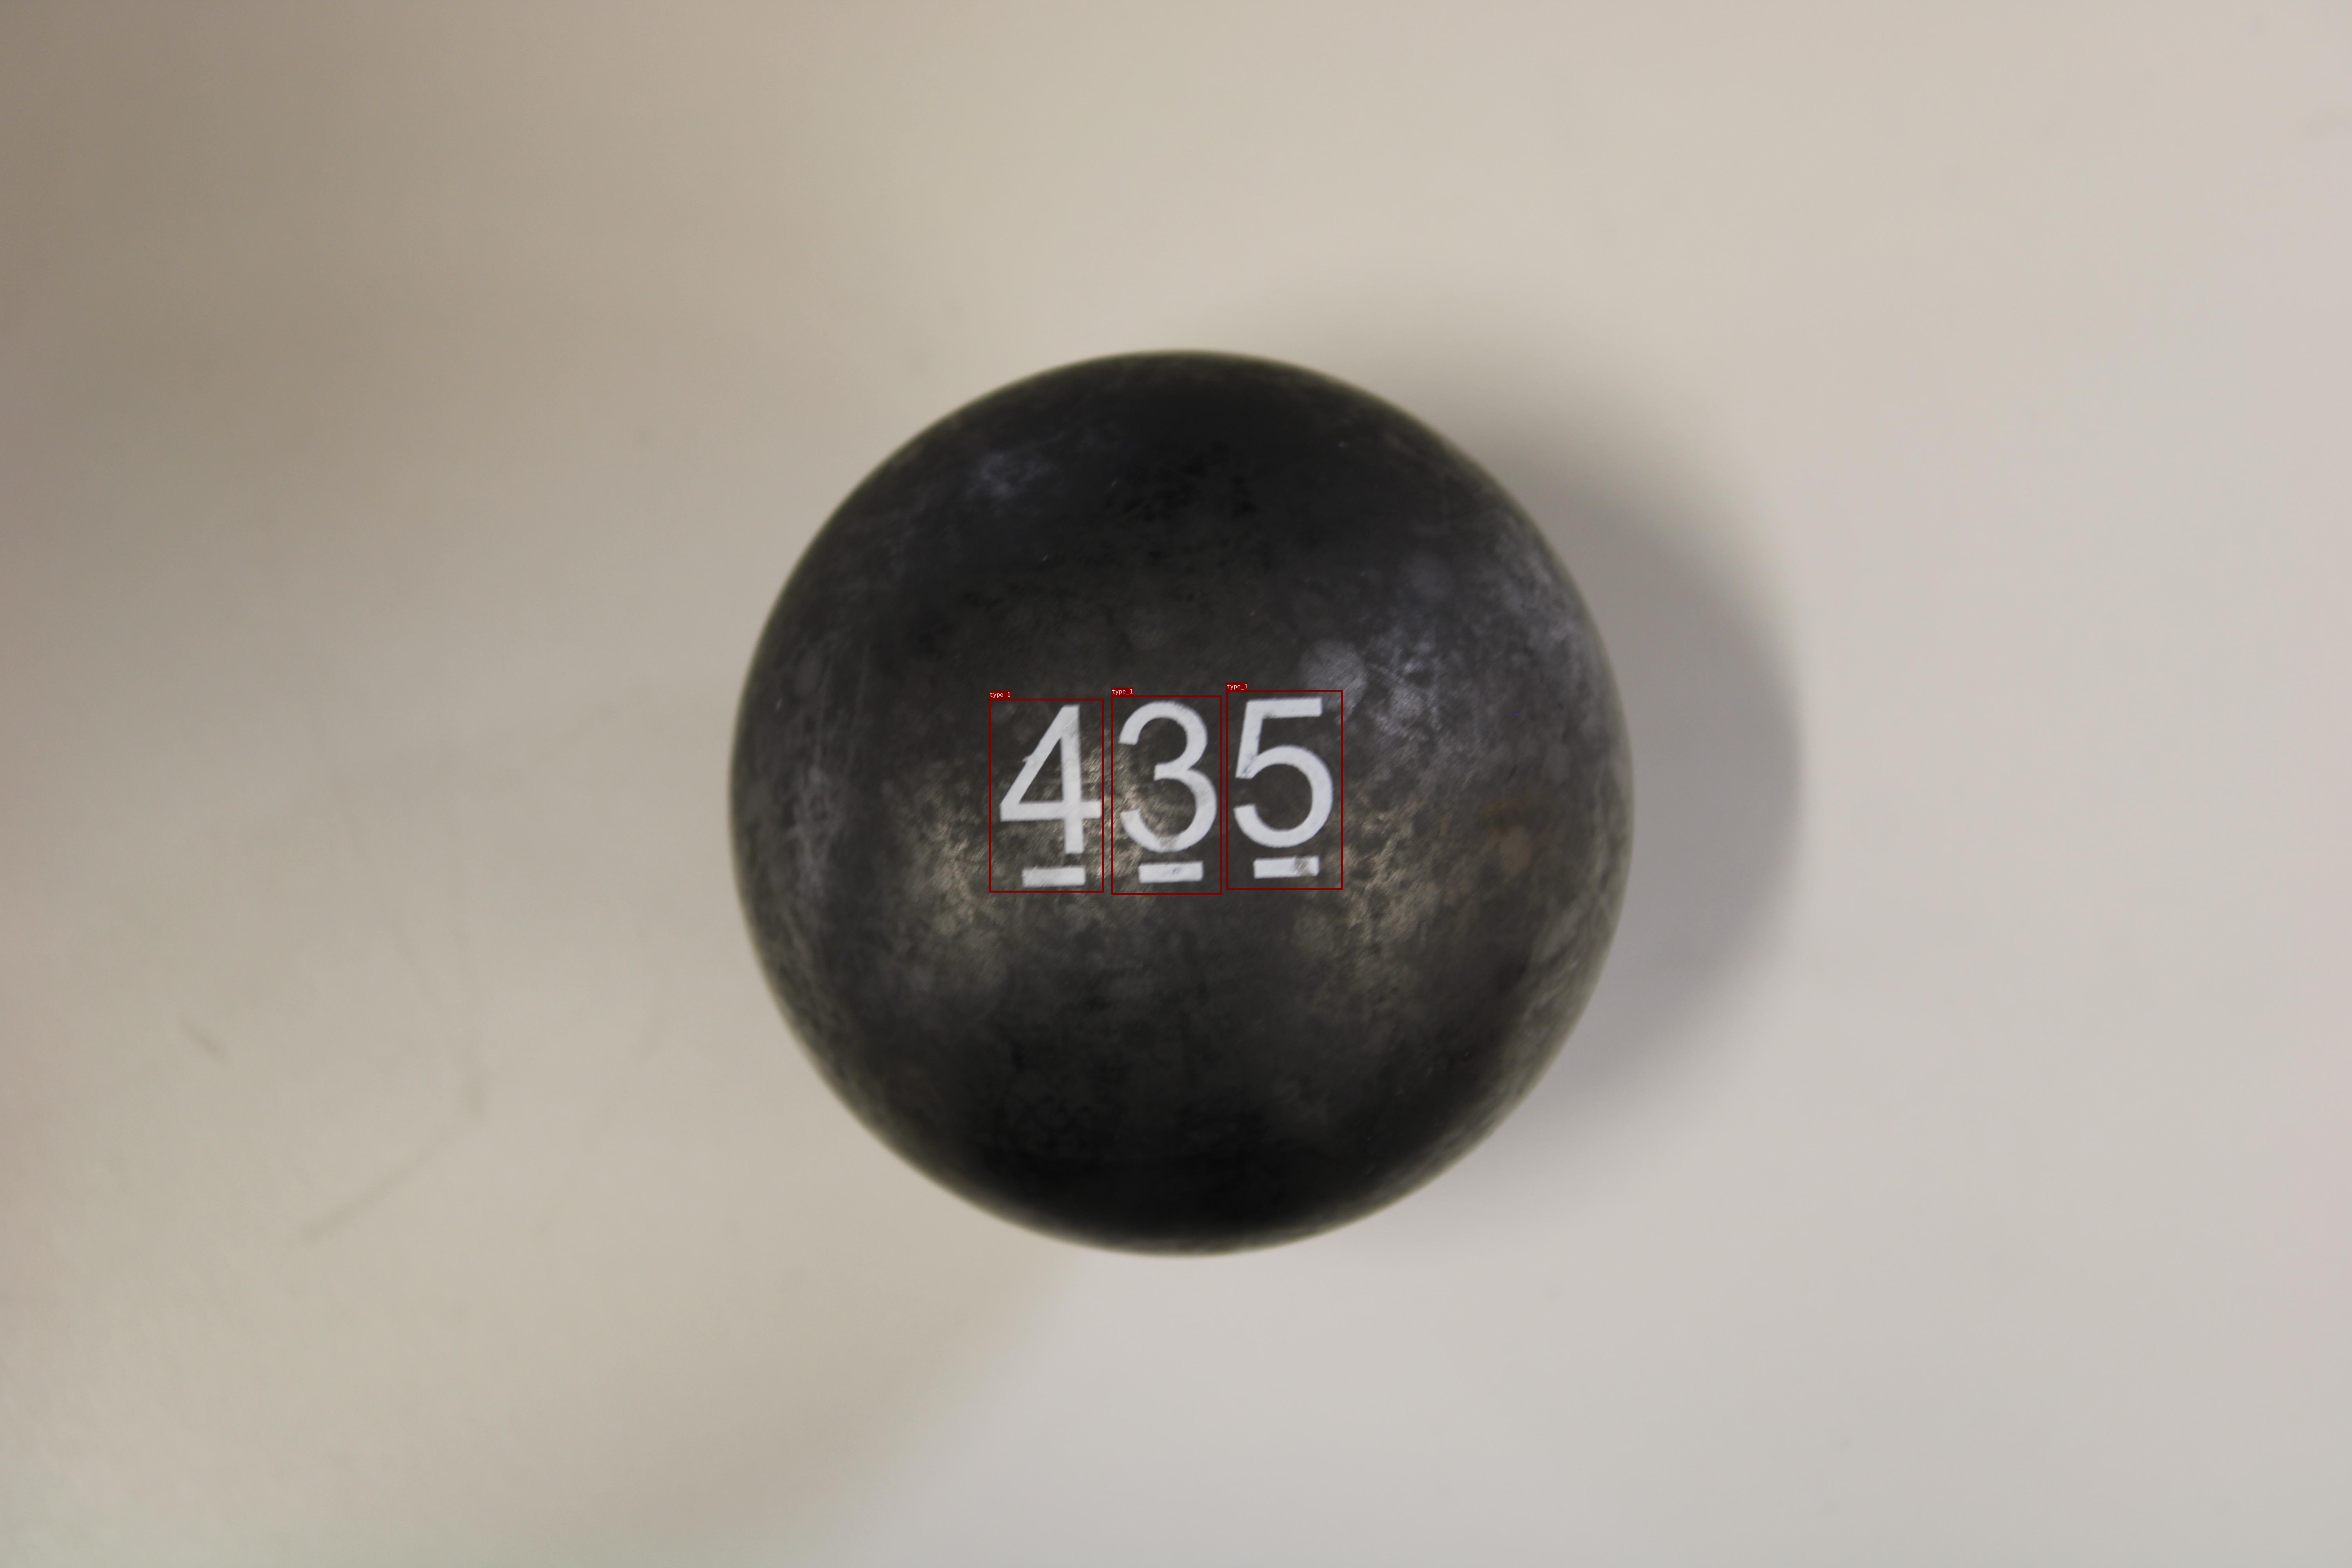type_1: (1227, 690, 1342, 889), (989, 698, 1104, 892), (1111, 695, 1221, 894)
